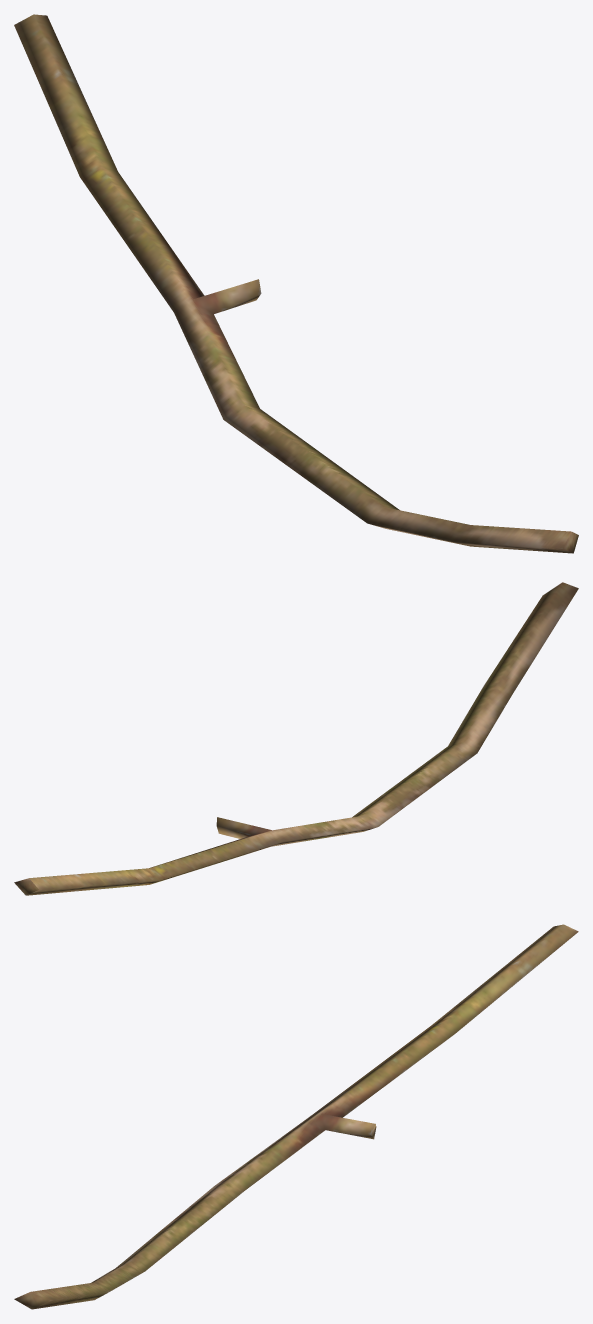
The model's file is rainy_forest_branch_01_foliage.fbx.
3 views of the same model, one above another, from view 1: azimuth 30°, elevation 25°; view 2: azimuth 150°, elevation 25°; view 3: azimuth 330°, elevation 25° (orthographic). The views are drawn at different scales.
Visible parts, largest first — view 1: rainy_forest_branch_01_foliage; view 2: rainy_forest_branch_01_foliage; view 3: rainy_forest_branch_01_foliage.
Part boxes in pixels (bbox=[...]): rainy_forest_branch_01_foliage: bbox=[14, 14, 578, 553]; rainy_forest_branch_01_foliage: bbox=[14, 582, 578, 895]; rainy_forest_branch_01_foliage: bbox=[14, 924, 578, 1309].
Bounding box in the file's own units: 17.4 × 17 × 126.
